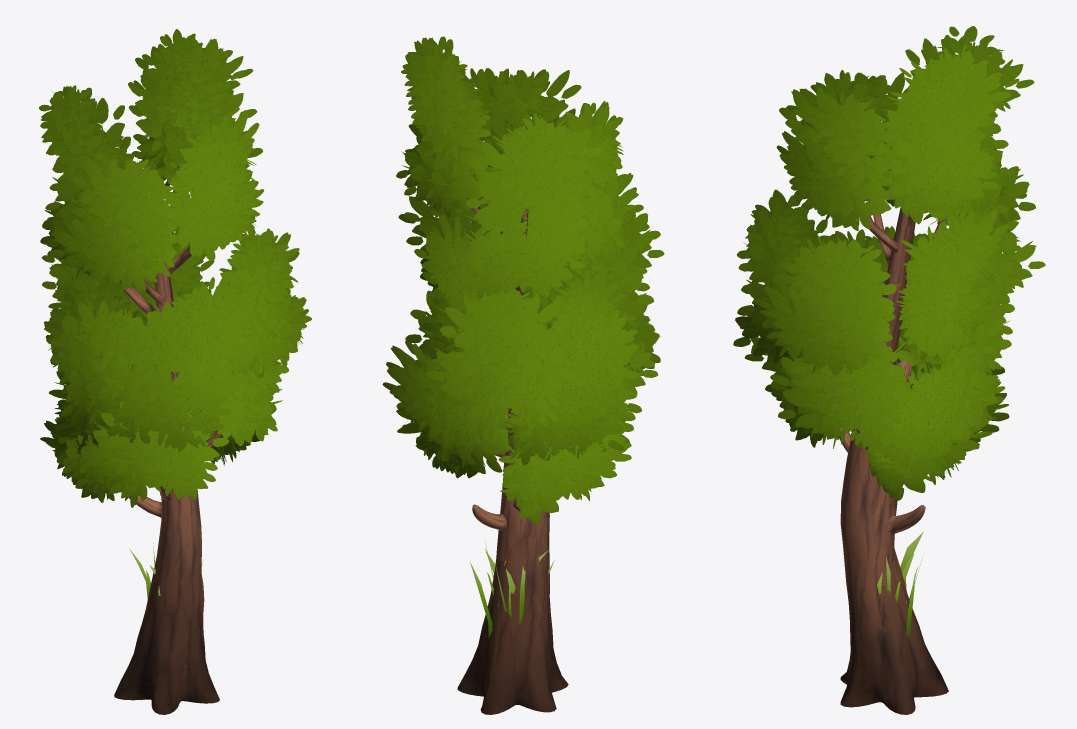
File: nature.glb
3 renders of one model, left to right at view 1: azimuth 30°, elevation 25°; view 2: azimuth 150°, elevation 25°; view 3: azimuth 270°, elevation 25°, orthographic. The views are drawn at different scales.
Visible parts, largest first — view 1: CommonTree_3, CommonTree_5; view 2: CommonTree_3, CommonTree_5, Grass_Common_Tall; view 3: CommonTree_3, CommonTree_5, Grass_Common_Tall.
Boxes of the visible parts, left/top/right/bottom form: CommonTree_3: left=39, top=29, right=311, bottom=714; CommonTree_5: left=40, top=226, right=289, bottom=713; CommonTree_3: left=382, top=36, right=664, bottom=714; CommonTree_5: left=405, top=214, right=658, bottom=711; Grass_Common_Tall: left=470, top=540, right=554, bottom=638; CommonTree_3: left=733, top=26, right=1035, bottom=714; CommonTree_5: left=744, top=208, right=1045, bottom=713; Grass_Common_Tall: left=877, top=532, right=923, bottom=640.
Size of the model in its own units: 4.06 by 9.43 by 4.34.
3 materials, 3 textured.
